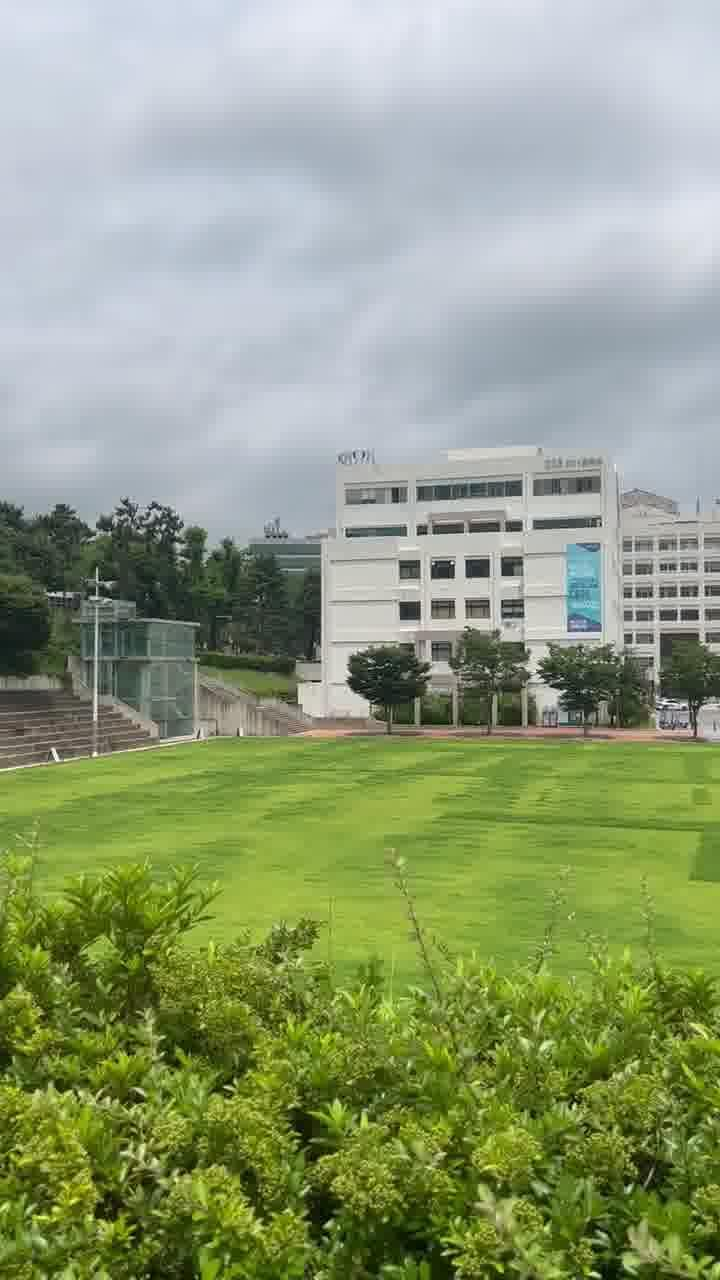building: (320, 428, 634, 646)
